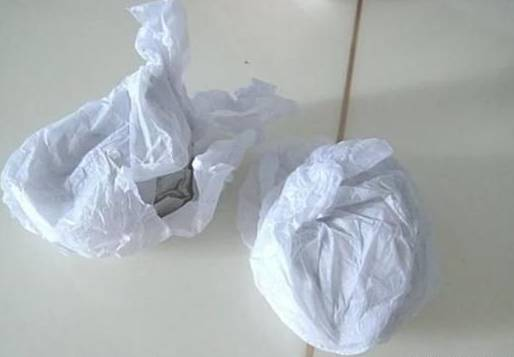flexible: (1, 1, 298, 254), (248, 136, 439, 357)
